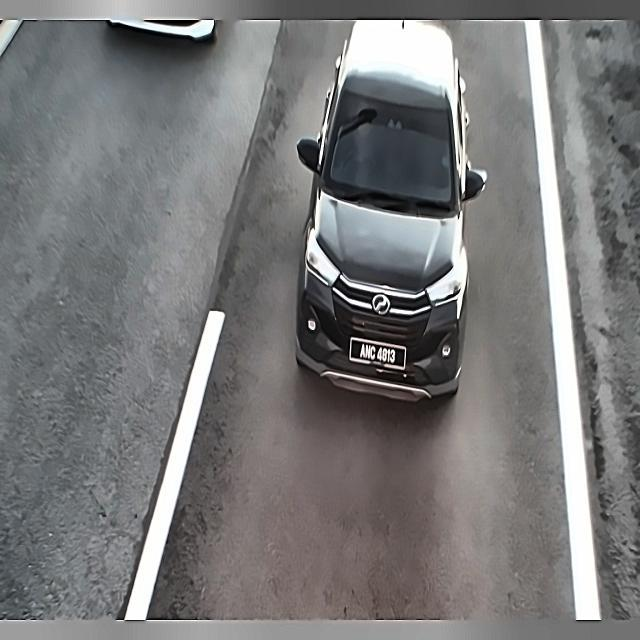car: (346, 331, 411, 382)
